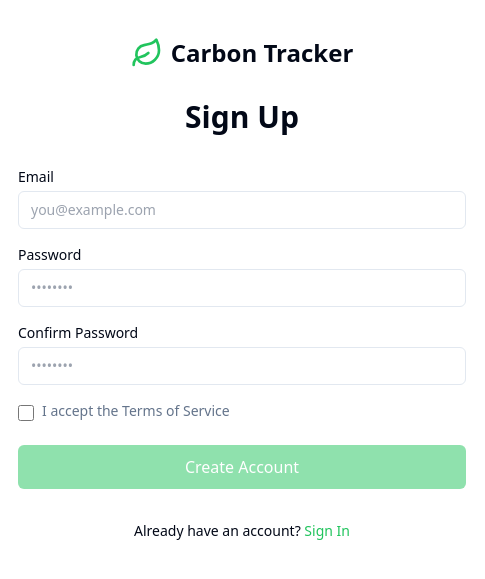
Test case: SignUpPage › shows password mismatch error when passwords differ
The image size is (485, 579).
Type "password123" into the password field with test id "password-input" at (242, 288), box [18, 269, 466, 307]
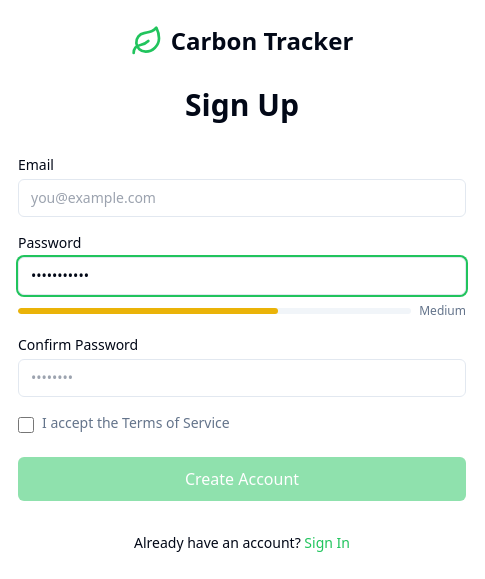
Type "different" into the password field with test id "confirm-password-input" at (242, 378), box [18, 359, 466, 397]
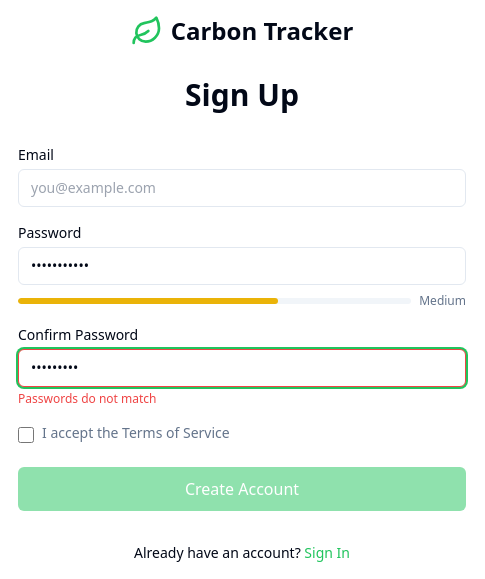
Expected: the text "Passwords do not match" is shown, [18, 390, 156, 407]
